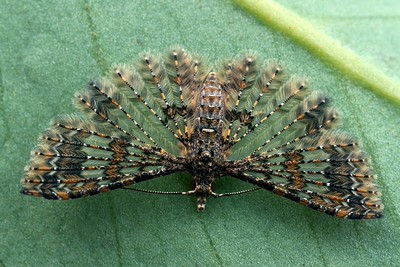Alucitidae: (20, 41, 386, 221)
moth: (18, 39, 384, 219)
